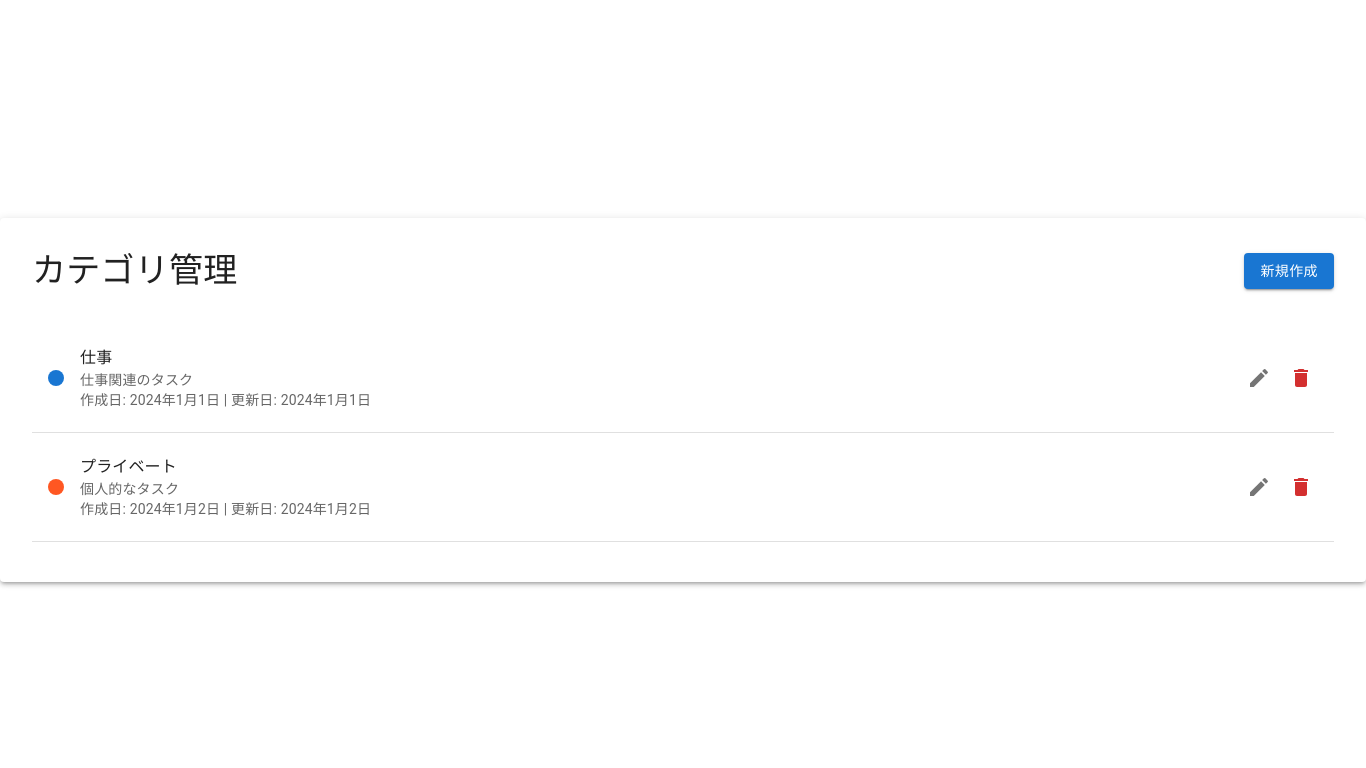
Scenario: CategoriesPage › shows success snackbar when deletion succeeds
The image size is (1366, 768).
What coordinates should you click on to do the following:
click the button named "削除" in the row of "仕事関連のタスク"
I would click on:
 (1301, 378)
Its box is [1284,361,1318,395].
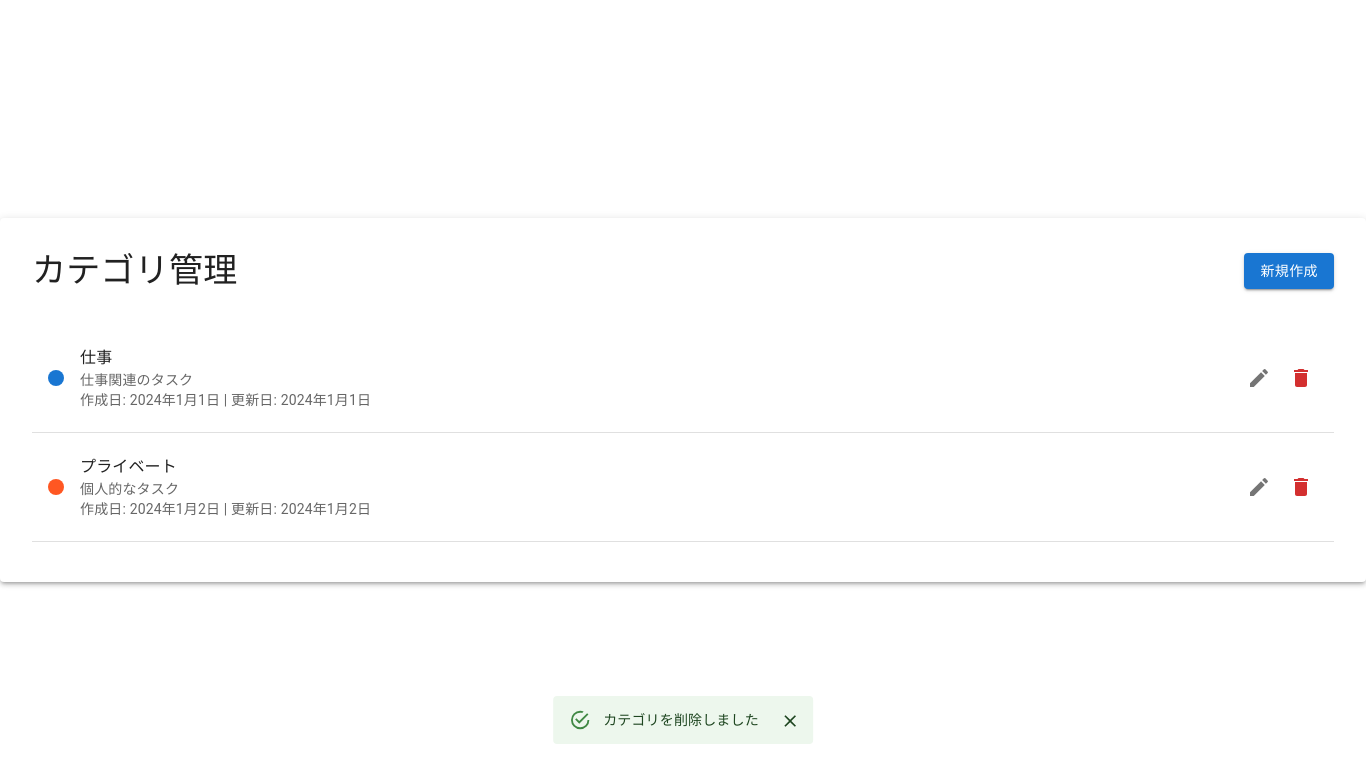
Expected: the text "カテゴリを削除しました" is shown, [603,712,759,728]
